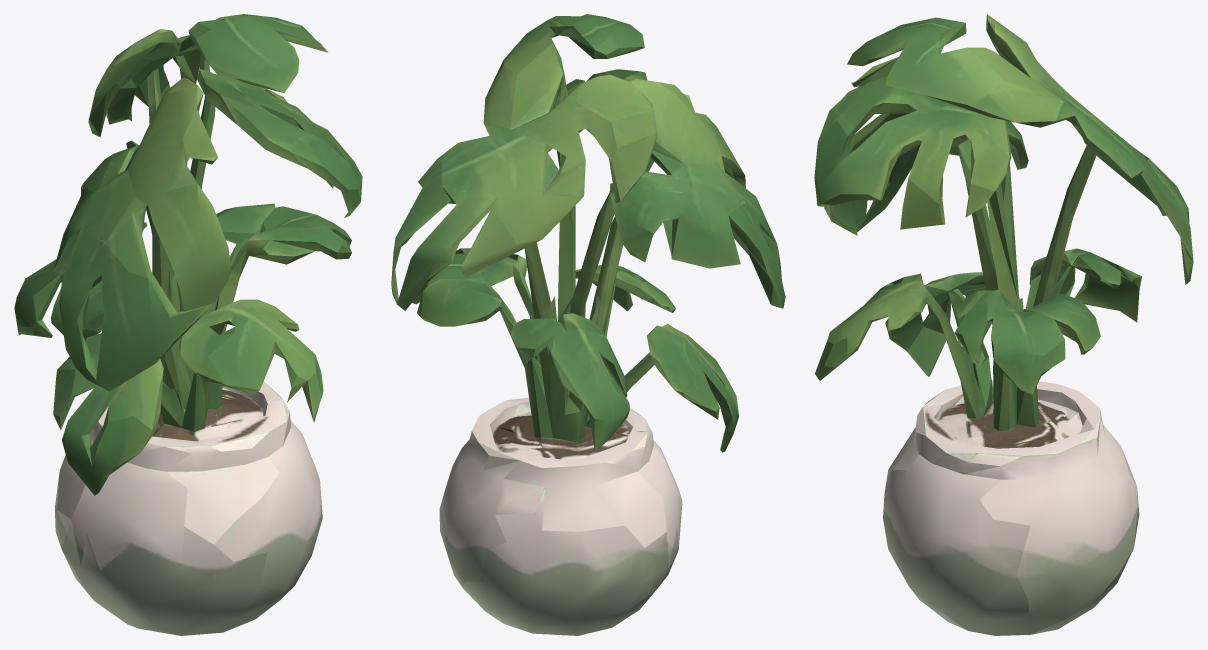
The model's file is plant-big-pot.glb.
The picture shows the model from 3 angles, left to right: view 1: azimuth 30°, elevation 25°; view 2: azimuth 150°, elevation 25°; view 3: azimuth 270°, elevation 25°; orthographic projection. The views are drawn at different scales.
Visible parts, largest first — view 1: plant-big-pot-fit; view 2: plant-big-pot-fit; view 3: plant-big-pot-fit.
Boxes of the visible parts, x1,y1,x2,y2 form: plant-big-pot-fit: (14, 14, 362, 635); plant-big-pot-fit: (391, 14, 785, 635); plant-big-pot-fit: (814, 14, 1193, 635).
Size of the model in its own units: 1.06 by 1.8 by 1.06.
Materials: 1 (1 with a texture image).
